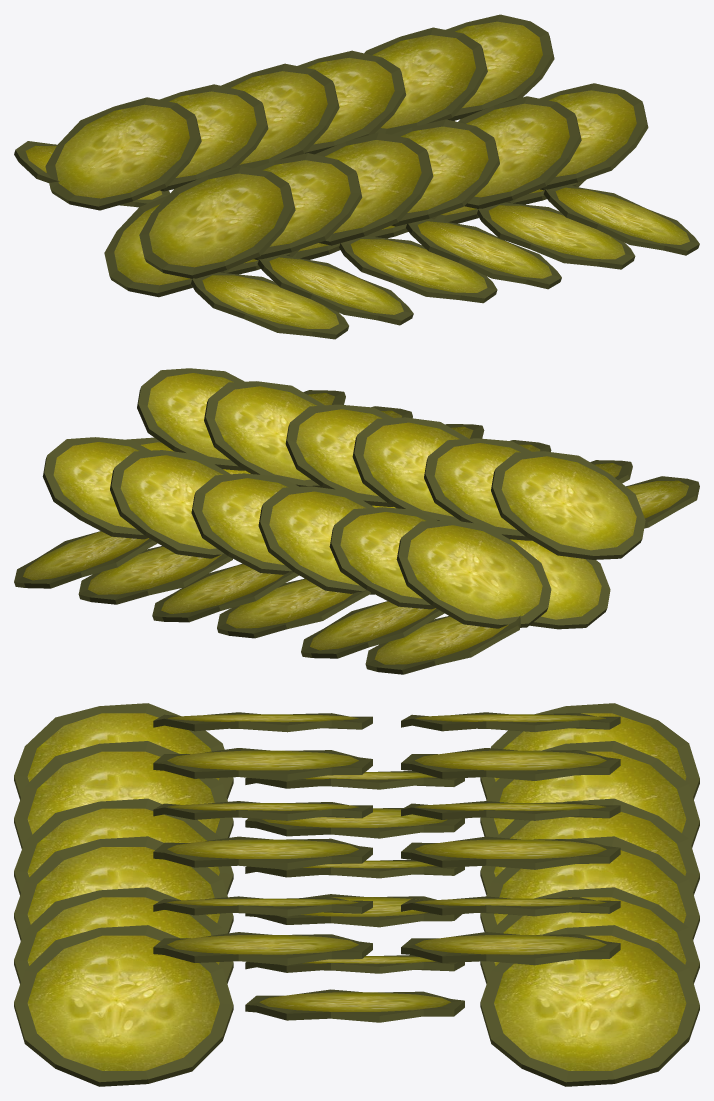
The model's file is pickles table.fbx.
3 renders of one model, top to bottom at view 1: azimuth 30°, elevation 25°; view 2: azimuth 150°, elevation 25°; view 3: azimuth 270°, elevation 25°, orthographic. The views are drawn at different scales.
Visible parts, largest first — view 1: Cylinder.040; view 2: Cylinder.040; view 3: Cylinder.040.
Part boxes in pixels (<box>): Cylinder.040: <box>14,14,699,339</box>; Cylinder.040: <box>14,368,699,674</box>; Cylinder.040: <box>14,703,699,1086</box>.
Size of the model in its own units: 31.65 by 6.6 by 29.44.
Materials: 2 (1 with a texture image).
